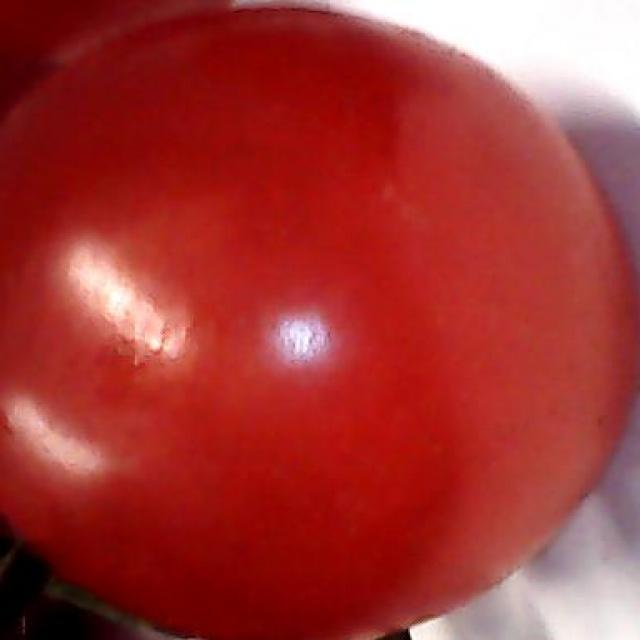Healthy: (0, 13, 639, 607)
